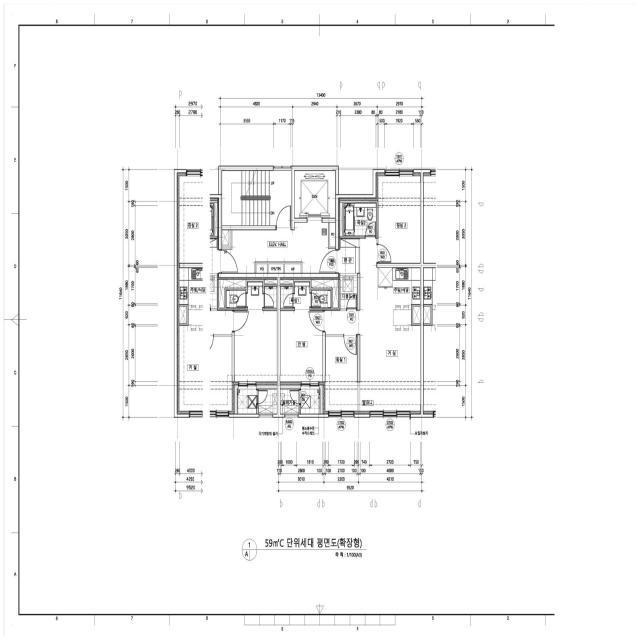space_balconi: (301, 389, 320, 414)
space_bedroom: (376, 173, 420, 263), (280, 311, 323, 385), (323, 337, 357, 414)
space_elevator: (294, 171, 335, 218)
space_elevator_hall: (222, 218, 335, 273)
space_front: (339, 239, 360, 273)
space_kitchen: (377, 268, 420, 326)
space_living_room: (325, 239, 420, 414)
space_multipurpose_space: (339, 276, 357, 308)
space_other: (311, 277, 338, 308), (285, 264, 301, 273), (268, 264, 283, 273), (330, 223, 335, 247), (413, 307, 420, 323), (222, 230, 229, 245), (256, 264, 267, 273), (339, 203, 342, 236), (280, 278, 293, 284)
space_outdoor_room: (280, 389, 299, 414)
space_staircase: (222, 170, 291, 226)
space_toilet: (344, 203, 376, 236), (295, 281, 310, 311), (311, 290, 331, 308), (280, 286, 293, 309)
